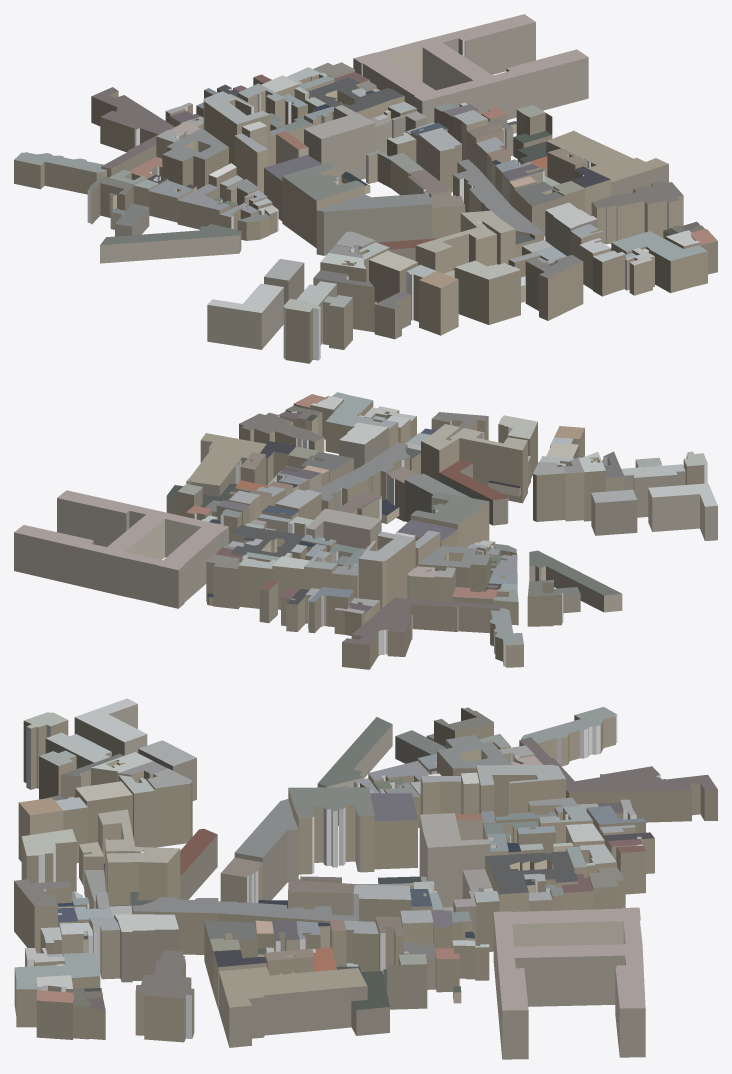
The picture shows the model from 3 angles, top to bottom: view 1: azimuth 30°, elevation 25°; view 2: azimuth 150°, elevation 25°; view 3: azimuth 270°, elevation 25°; orthographic projection. The views are drawn at different scales.
Visible parts, largest first — view 1: tuile; view 2: tuile; view 3: tuile.
Boxes of the visible parts, x1,y1,x2,y2 form: tuile: [14, 14, 717, 363]; tuile: [14, 392, 717, 669]; tuile: [14, 698, 717, 1059].
Size of the model in its own units: 310 by 46.58 by 294.
